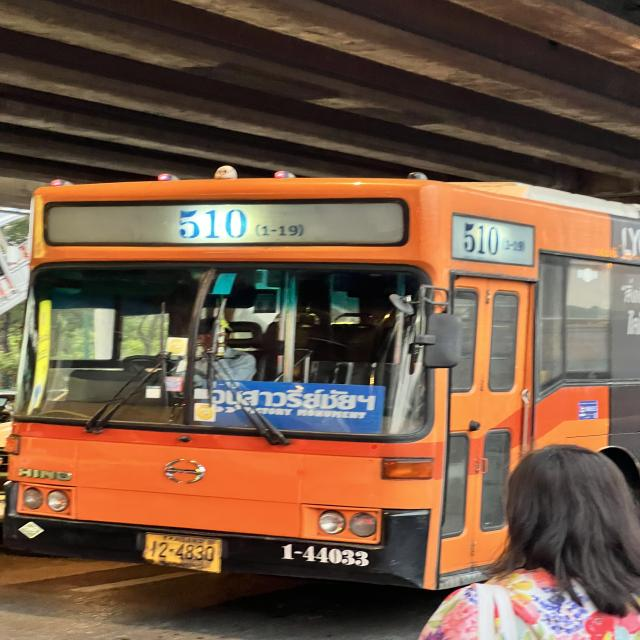BMTA-bus: (0, 157, 640, 599)
Bus-Line-Number: (166, 202, 320, 243)
Destination-Sign-Normal: (208, 378, 386, 436)
